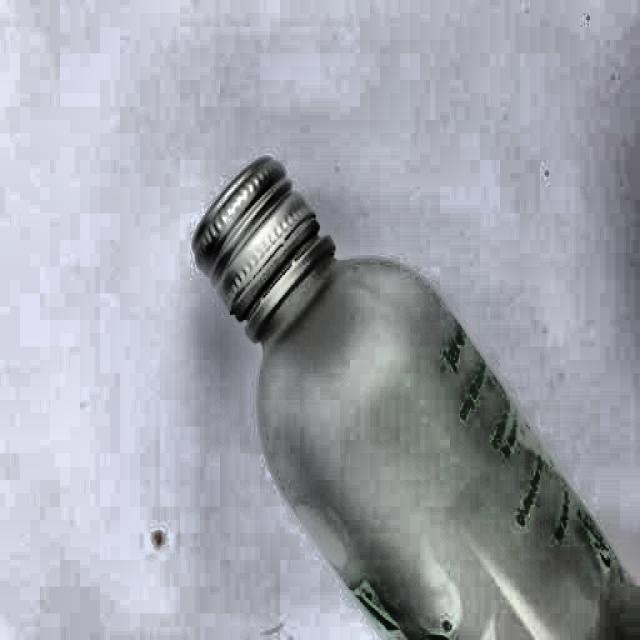glass: (195, 145, 640, 640)
